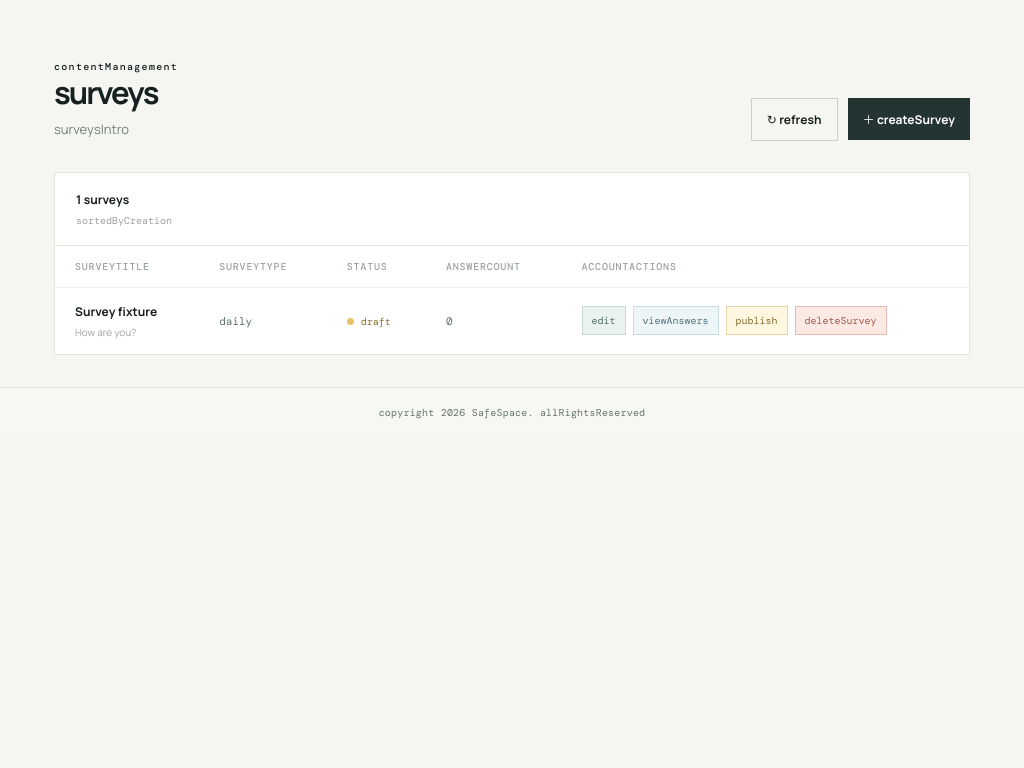
Test case: [integration] src/pages/SurveysPage.tsx › comments failure provides retry and recovers
Check: the text "Survey fixture" is shown, box [75,302,157,320]
Step 1. Click the button "viewAnswers" → click(676, 320), box [632,306,718,335]
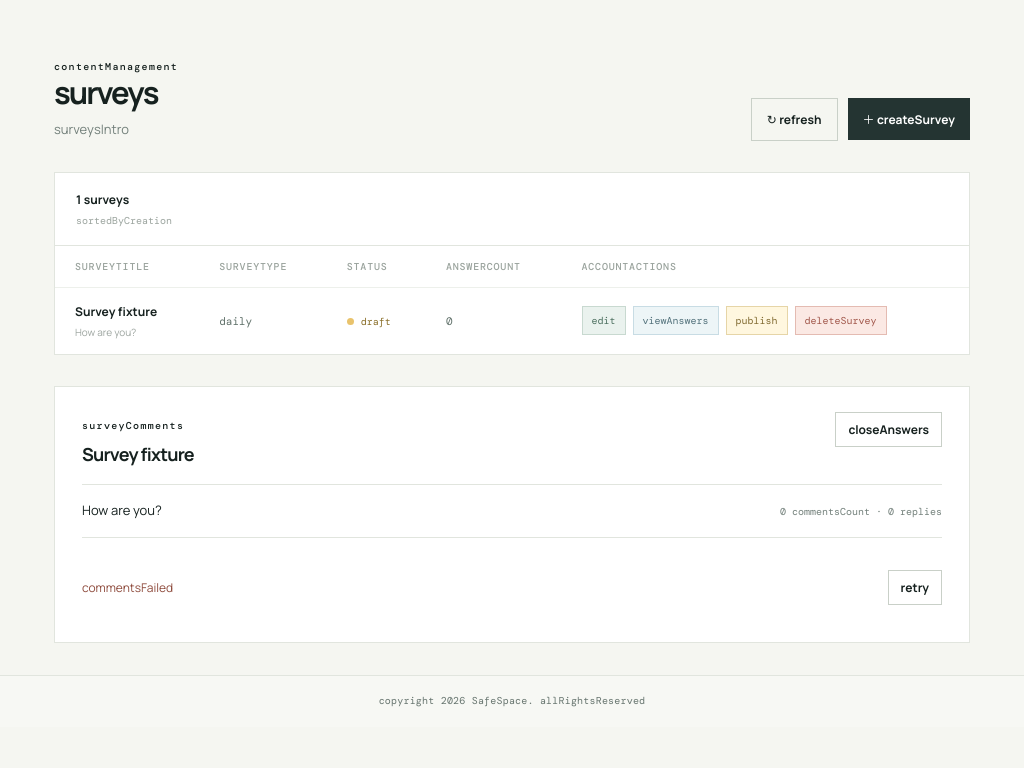
Check: the message "commentsFailed retry" is shown, box [82,570,942,605]
Step 2. Click the button "retry" → click(915, 587), box [888,570,942,605]
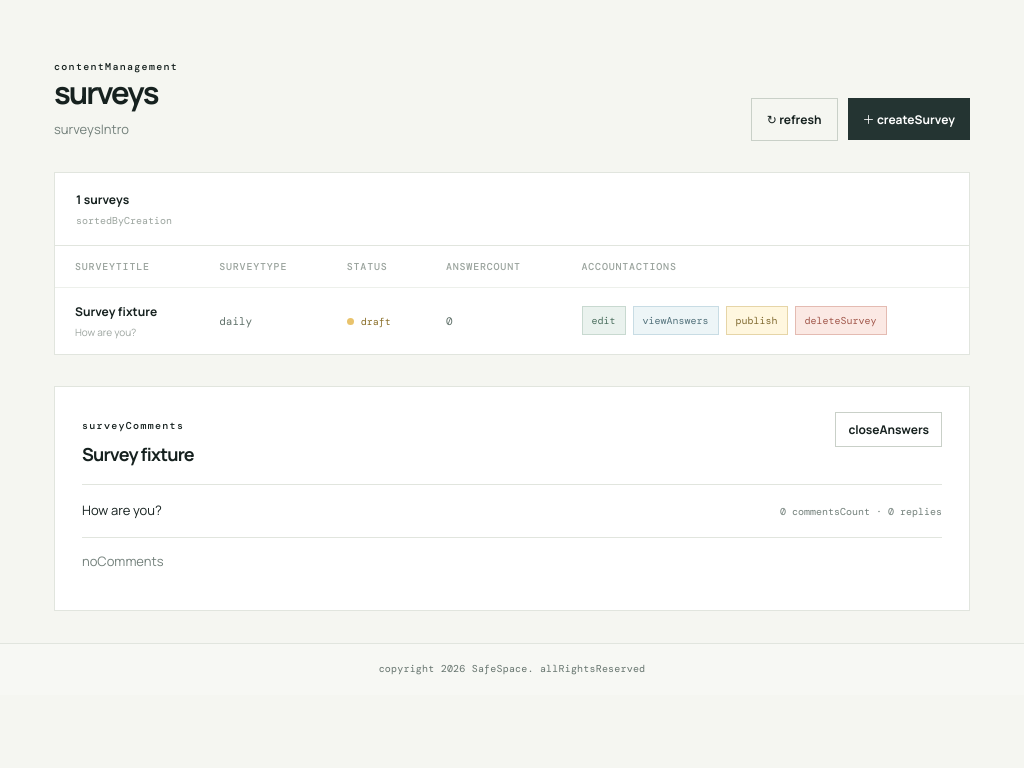
Check: the text "noComments" is shown, box [82,552,164,570]
